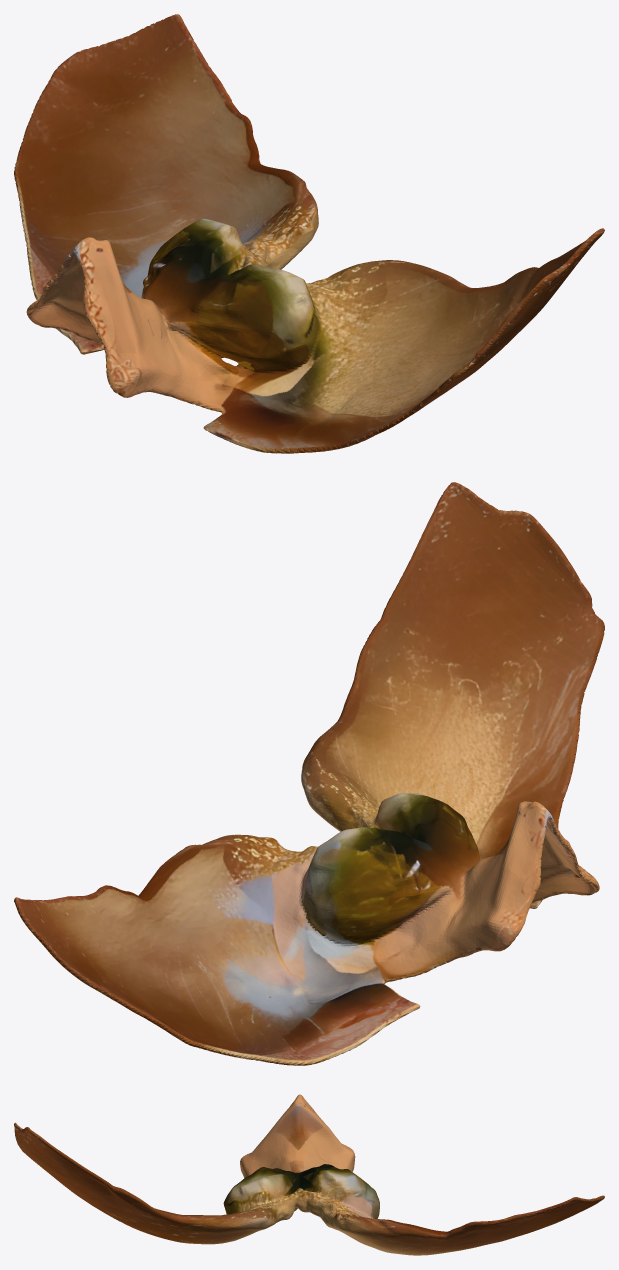
The model's file is golden-heart-with-wings.glb.
3 renders of one model, top to bottom at view 1: azimuth 30°, elevation 25°; view 2: azimuth 150°, elevation 25°; view 3: azimuth 270°, elevation 25°, orthographic. The views are drawn at different scales.
Visible parts, largest first — view 1: golden heart with wings_textured.obj; view 2: golden heart with wings_textured.obj; view 3: golden heart with wings_textured.obj.
Boxes of the visible parts, x1,y1,x2,y2 form: golden heart with wings_textured.obj: [14, 14, 604, 453]; golden heart with wings_textured.obj: [14, 482, 604, 1065]; golden heart with wings_textured.obj: [14, 1094, 604, 1255].
Bounding box in the file's own units: 0.8197 × 0.6563 × 1.99.
1 material, 1 textured.
